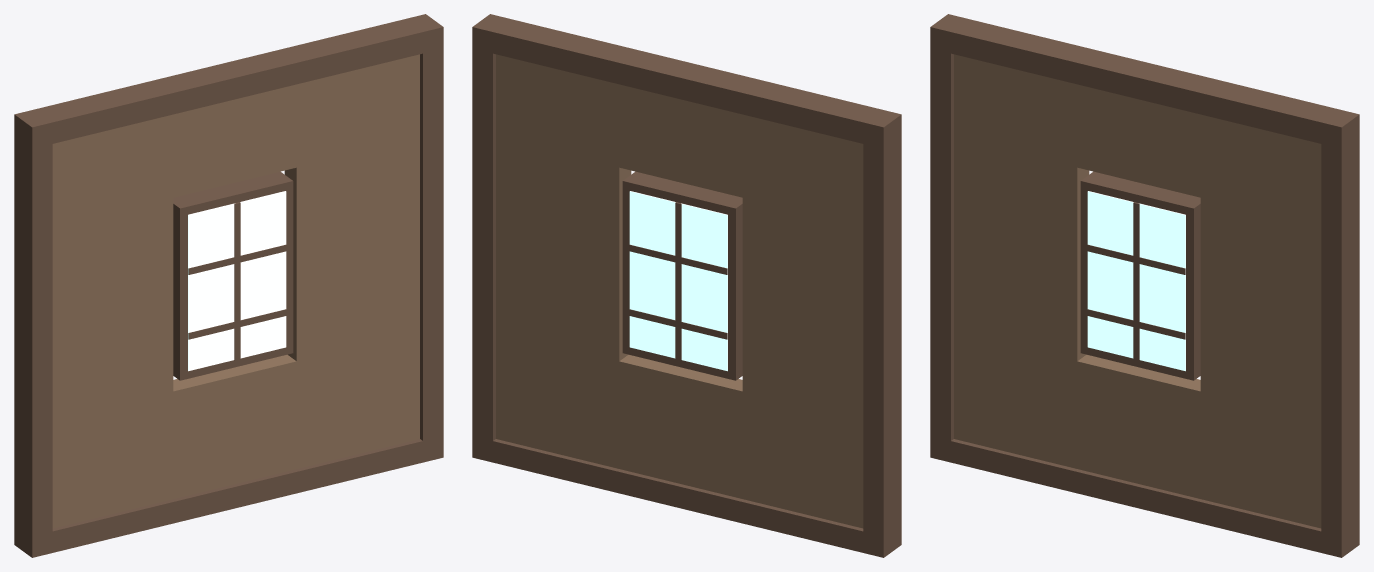
File: haunted_wall_windowarched.glb
3 views of the same model, side by side, from view 1: azimuth 30°, elevation 25°; view 2: azimuth 150°, elevation 25°; view 3: azimuth 330°, elevation 25° (orthographic).
Parts seen in each view (by area): view 1: Haunted_Wall_WindowArched; view 2: Haunted_Wall_WindowArched; view 3: Haunted_Wall_WindowArched.
Boxes of the visible parts, box(x1,y1,x2,y2) form: Haunted_Wall_WindowArched: box(14, 14, 443, 557); Haunted_Wall_WindowArched: box(472, 14, 901, 557); Haunted_Wall_WindowArched: box(930, 14, 1359, 557).
Size of the model in its own units: 4 by 4 by 0.3.
